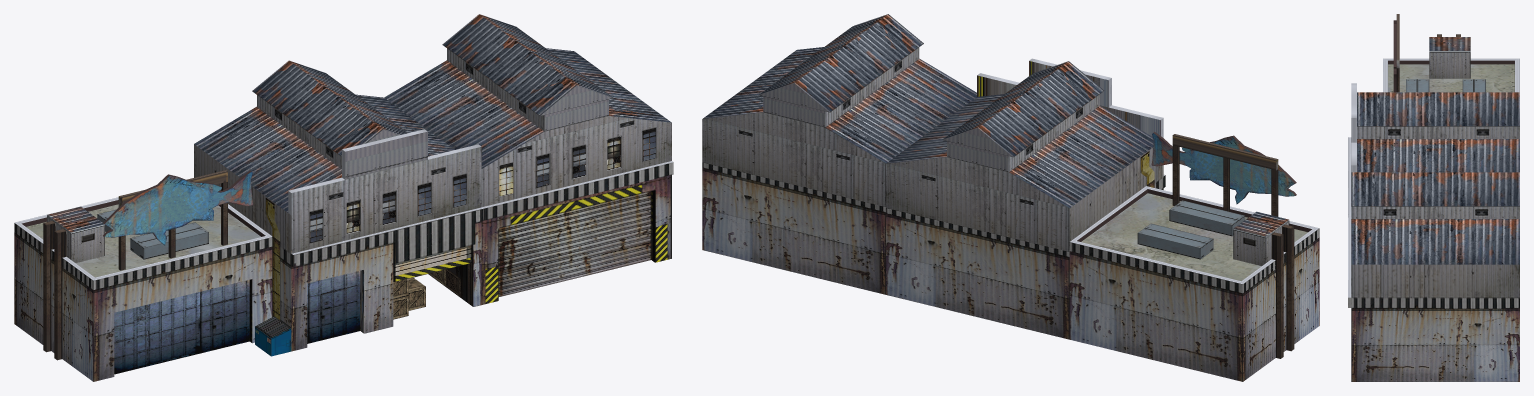
Rendered from factory.glb.
The picture shows the model from 3 angles, left to right: view 1: azimuth 30°, elevation 25°; view 2: azimuth 150°, elevation 25°; view 3: azimuth 270°, elevation 25°; orthographic projection. The views are drawn at different scales.
Visible parts, largest first — view 1: factory; view 2: factory; view 3: factory.
Part boxes in pixels (x1,y1,x2,y2): factory: (14,14,673,381); factory: (702,14,1319,381); factory: (1348,14,1519,381).
Size of the model in its own units: 53.47 by 17.76 by 16.3.
1 material, 1 textured.
